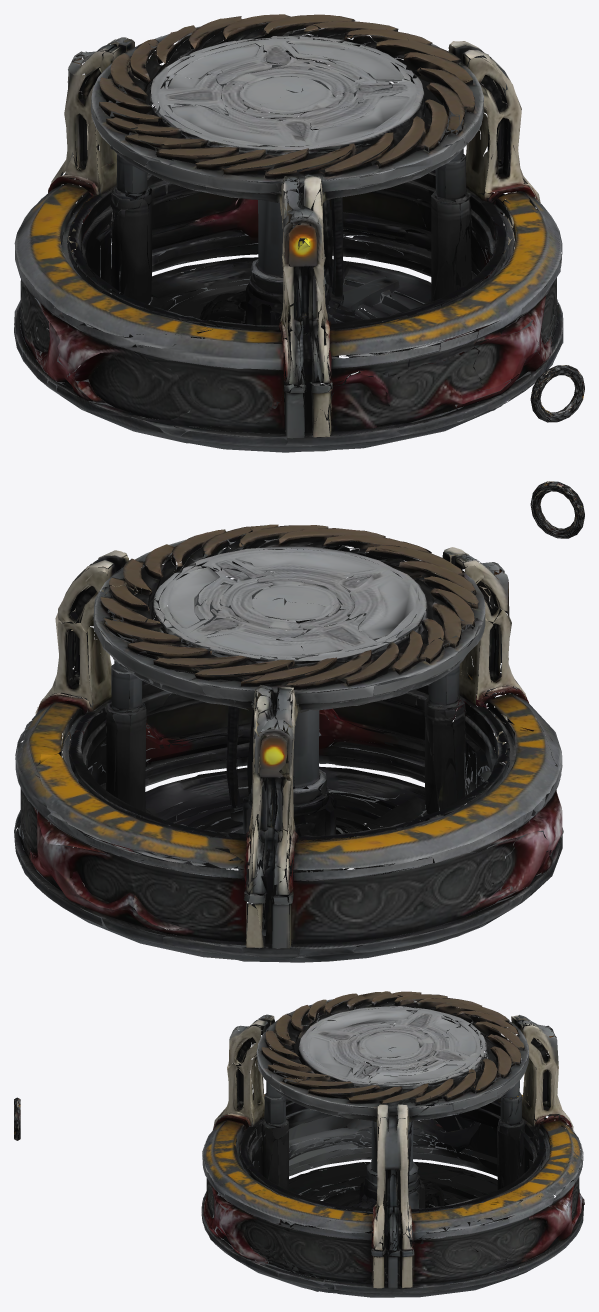
File: traversal_floor_recess_lift_drum.glb
3 renders of one model, top to bottom at view 1: azimuth 30°, elevation 25°; view 2: azimuth 150°, elevation 25°; view 3: azimuth 270°, elevation 25°, orthographic. The views are drawn at different scales.
Parts seen in each view (by area): view 1: node_0, HB_ROTOR_00; view 2: node_0, HB_ROTOR_00; view 3: node_0.
Part boxes in pixels (x1=…): node_0: x1=14, y1=14, x2=563, y2=452; HB_ROTOR_00: x1=530, y1=365, x2=584, y2=422; node_0: x1=14, y1=524, x2=563, y2=962; HB_ROTOR_00: x1=530, y1=481, x2=584, y2=538; node_0: x1=201, y1=991, x2=584, y2=1297.
Size of the model in its own units: 1.14 by 0.6383 by 1.65.
Materials: 1 (1 with a texture image).
